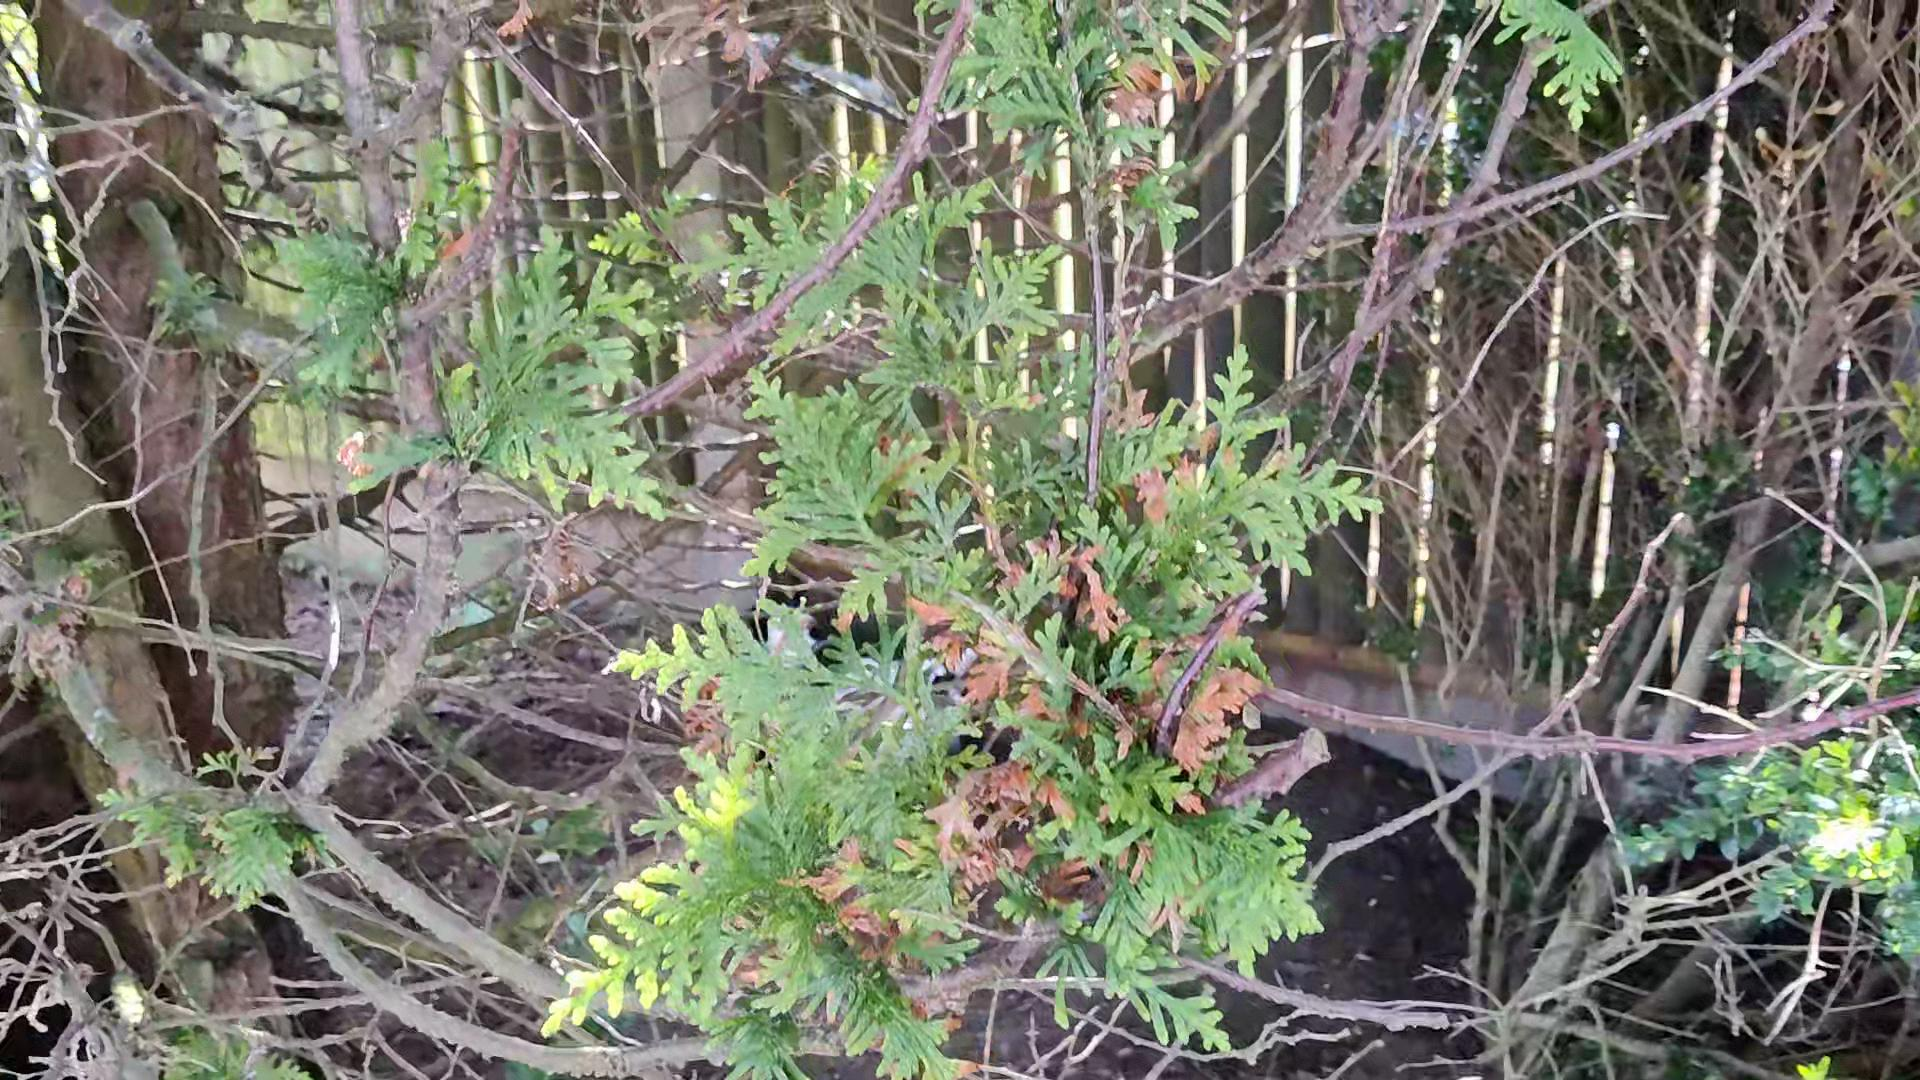Dog: (737, 589, 992, 728)
